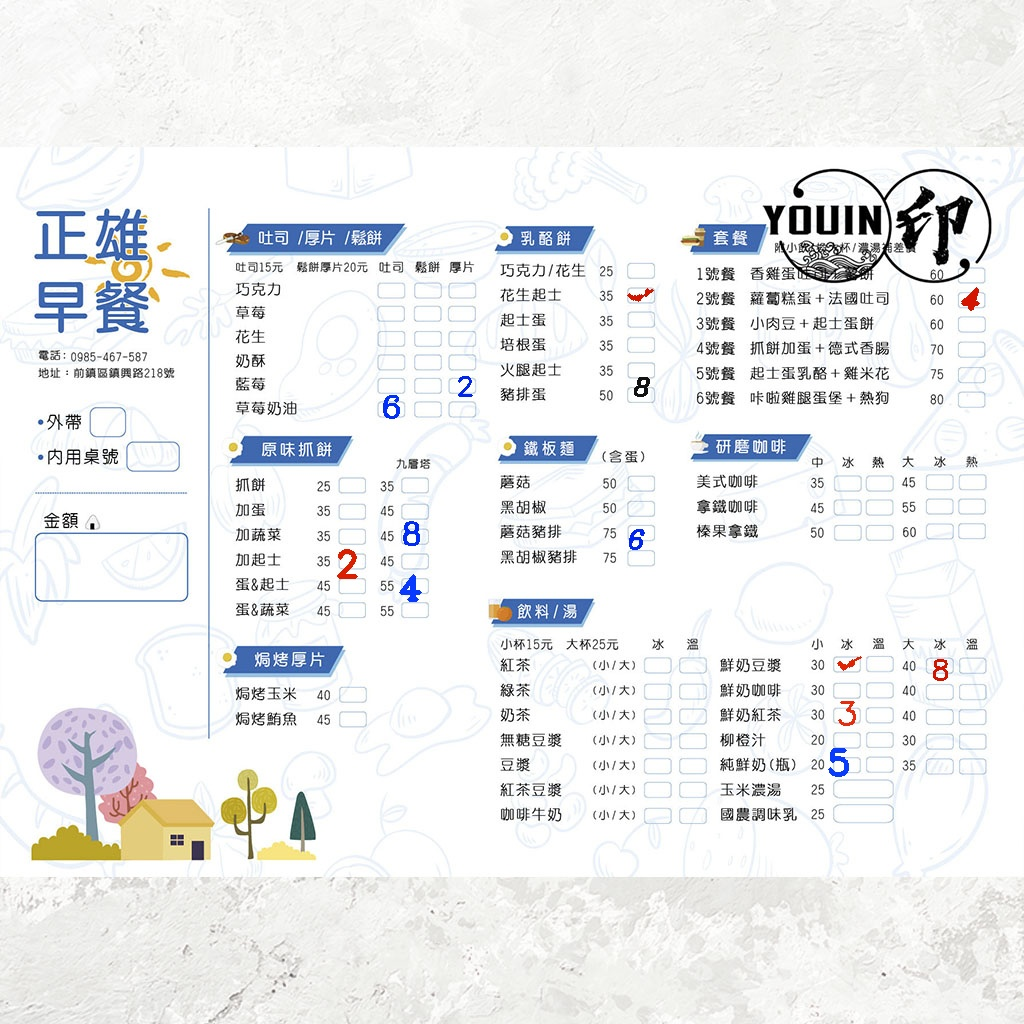marked_number_2: (448, 378, 474, 392), (337, 554, 363, 568)
marked_number_3: (834, 707, 860, 721)
marked_number_4: (400, 579, 426, 593), (958, 293, 984, 307)
marked_number_5: (832, 755, 858, 769)
marked_number_6: (377, 401, 403, 415), (625, 526, 651, 540)
marked_number_8: (926, 657, 952, 671), (401, 528, 427, 542), (626, 385, 652, 399)
marked_tick: (628, 288, 654, 302), (834, 657, 860, 671)
